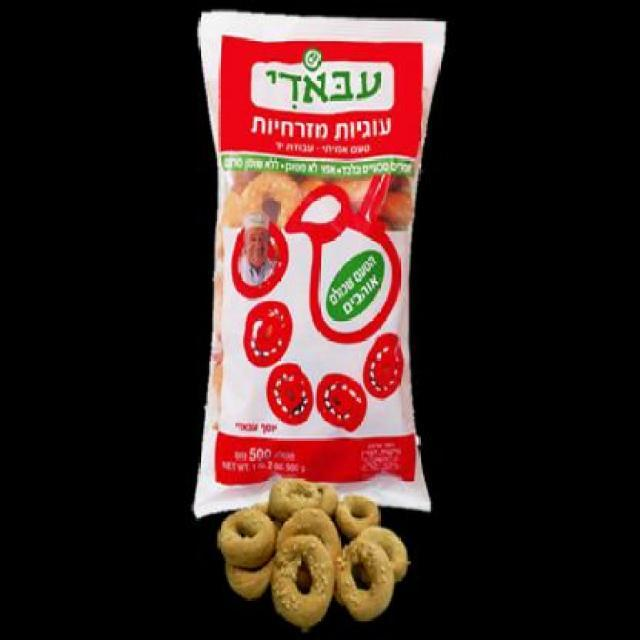Taralli: (214, 480, 412, 622)
